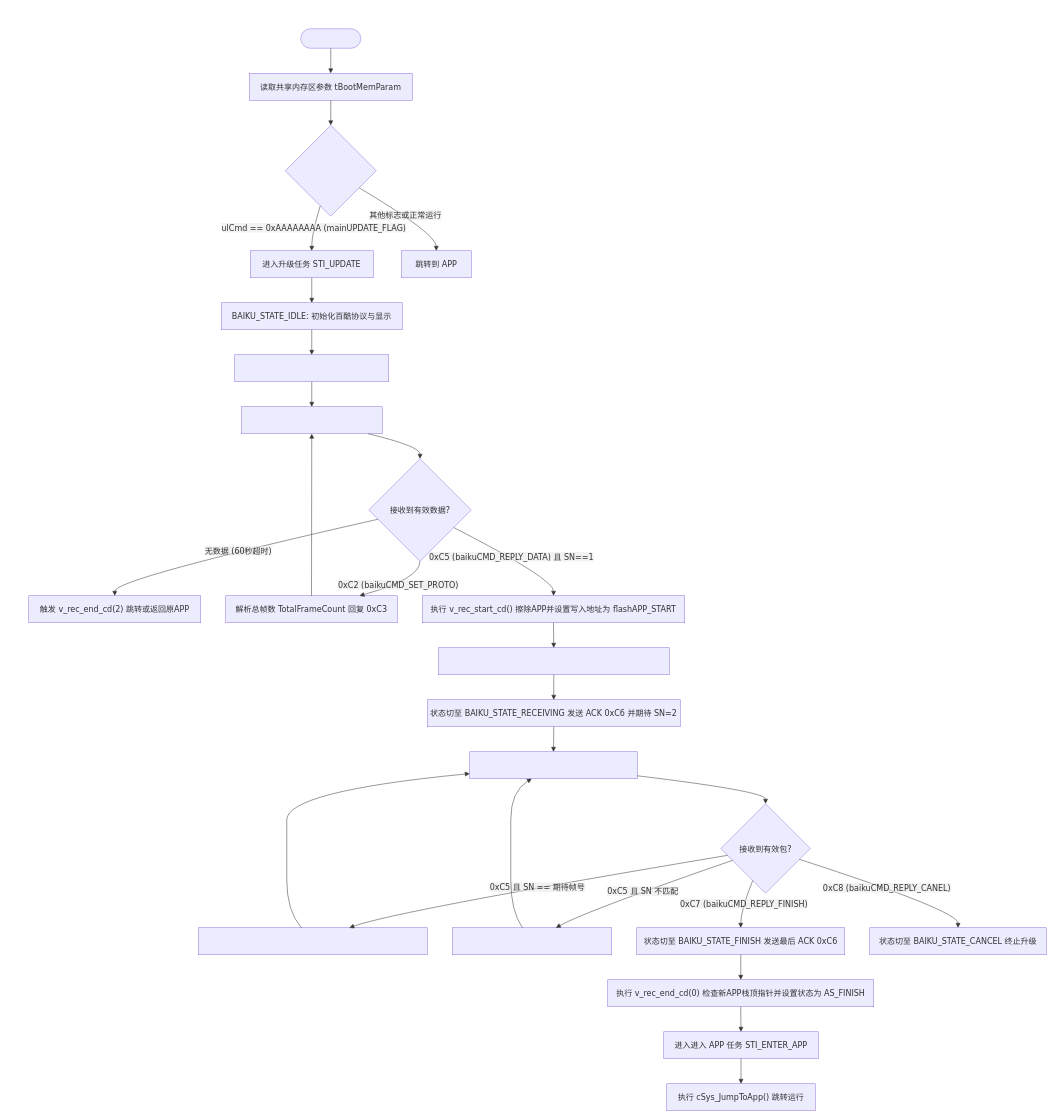
Image size: 1055x1120. Some labels were removed from this diagram. The box of each missing label's shape, as (x1, y1, x2, y2) in pixels:
ulCmd 标志位?: (285, 125, 376, 216)
写入 Flash (大小=224字节) 自增期待帧号 发送 ACK 0xC6: (198, 927, 427, 955)
切换状态至 BAIKU_STATE_STANDBY: (234, 354, 389, 382)
发送 ACK 0xC6 / NAK 0xC4 并检测串口: (469, 751, 637, 779)
发送 NAK 0xC4 并检测串口数据: (241, 406, 382, 434)
系统复位启动: (300, 28, 361, 48)
调用 bFlash_WriteDataToFlash() 写入第一包数据 56 字节: (438, 647, 669, 675)
错误包处理 发送 NAK 0xC4 触发重传: (452, 927, 612, 955)
